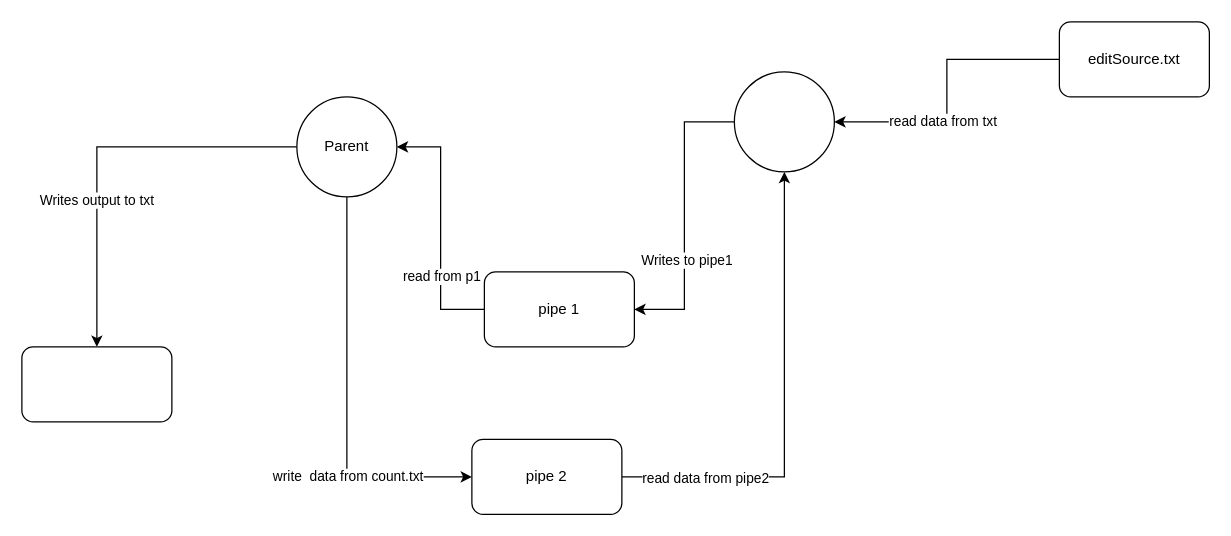
Some shapes in this 1231 by 536 pixel diagram are drawn without their labels. Here are the shapes that lost their labels. From the top down, the box of each, then its label:
(733, 71, 834, 172): Child
(21, 346, 172, 422): theCount.txt
